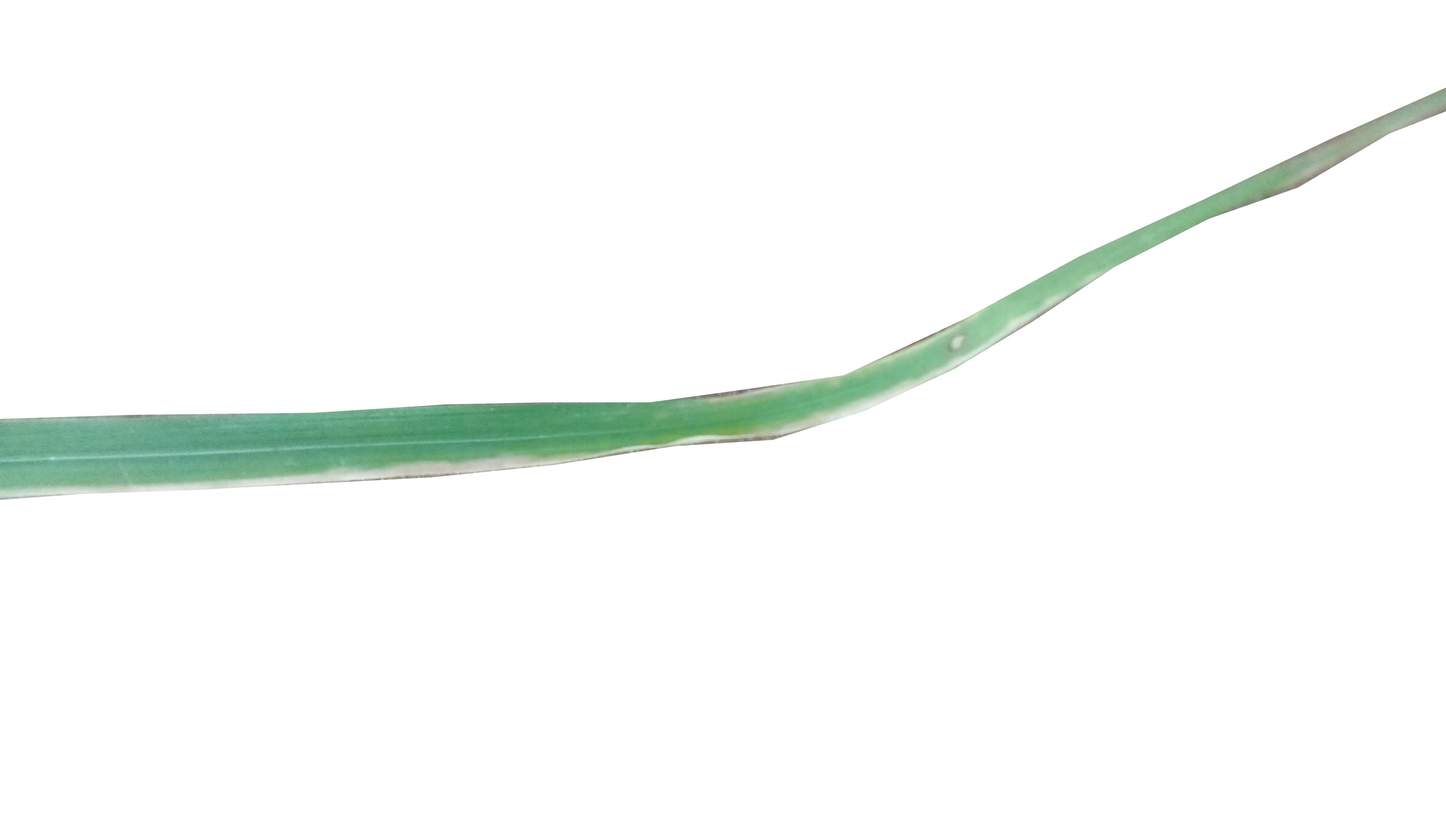Blight: (330, 453, 535, 473), (949, 332, 970, 353)
